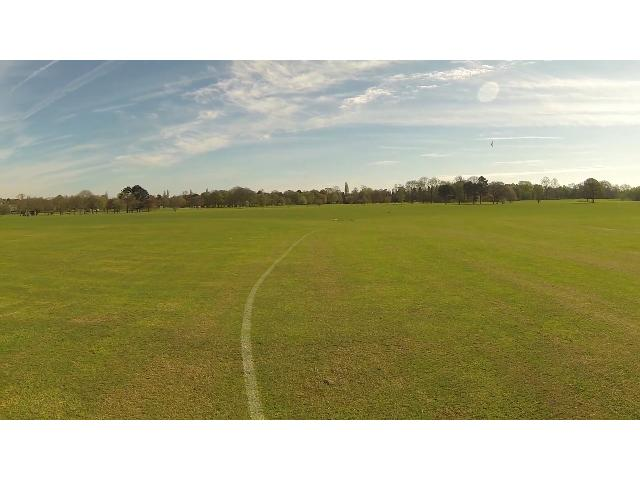Anti-Drone: (488, 135, 496, 151)
